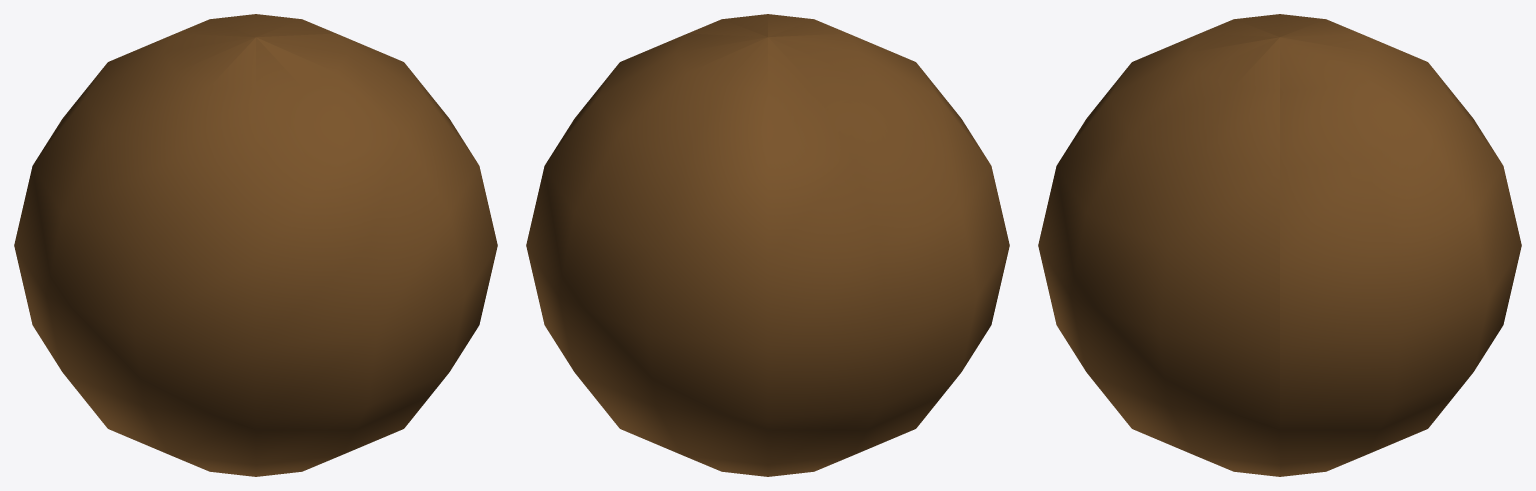
Rendered from fruit-coconut-gold.glb.
3 views of the same model, side by side, from view 1: azimuth 30°, elevation 25°; view 2: azimuth 150°, elevation 25°; view 3: azimuth 270°, elevation 25° (orthographic).
Visible parts, largest first — view 1: fruit-coconut; view 2: fruit-coconut; view 3: fruit-coconut.
Part boxes in pixels (x1,y1,x2,y2): fruit-coconut: (14, 14, 497, 476); fruit-coconut: (526, 14, 1009, 476); fruit-coconut: (1038, 14, 1521, 476).
Bounding box in the file's own units: 0.56 × 0.532 × 0.56.
